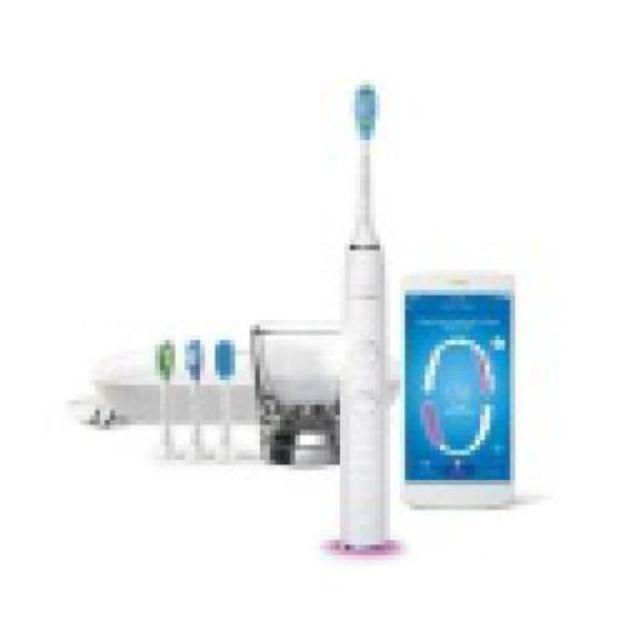toothbrush: (322, 58, 422, 572)
